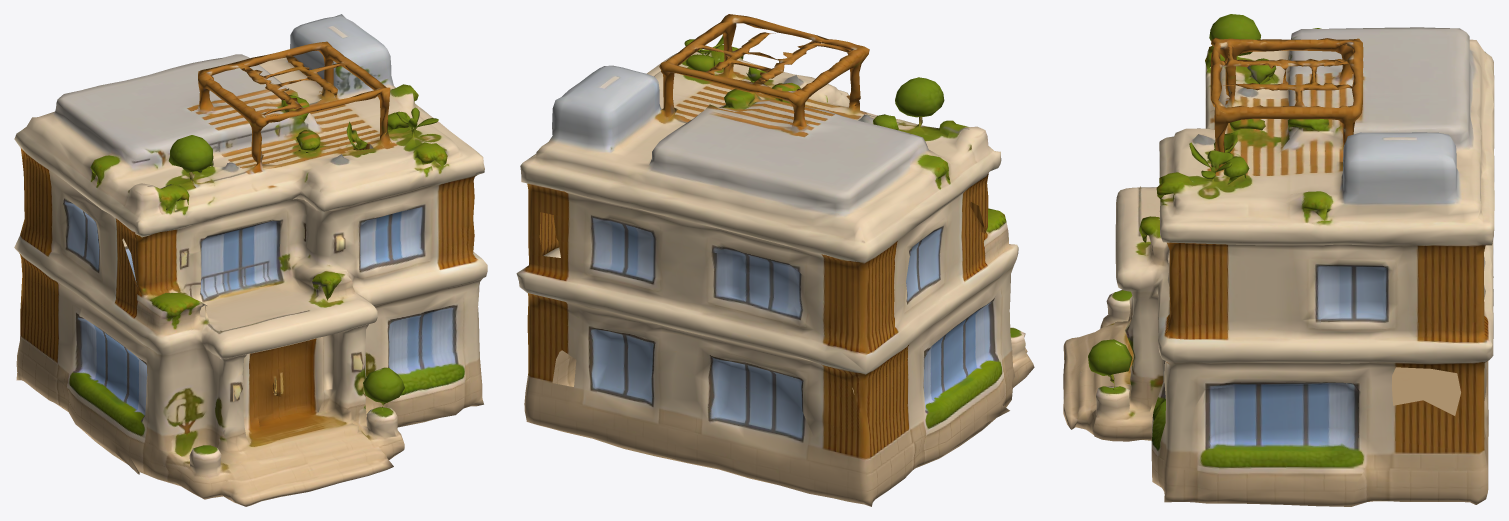
3 views of the same model, side by side, from view 1: azimuth 30°, elevation 25°; view 2: azimuth 150°, elevation 25°; view 3: azimuth 270°, elevation 25° (orthographic). The views are drawn at different scales.
Parts seen in each view (by area): view 1: house-villa; view 2: house-villa; view 3: house-villa.
Boxes of the visible parts, x1,y1,x2,y2 form: house-villa: (14,14,487,506); house-villa: (516,14,1034,506); house-villa: (1063,14,1494,506).
Bounding box in the file's own units: 8.91 × 8 × 8.76.
Materials: 1 (1 with a texture image).
